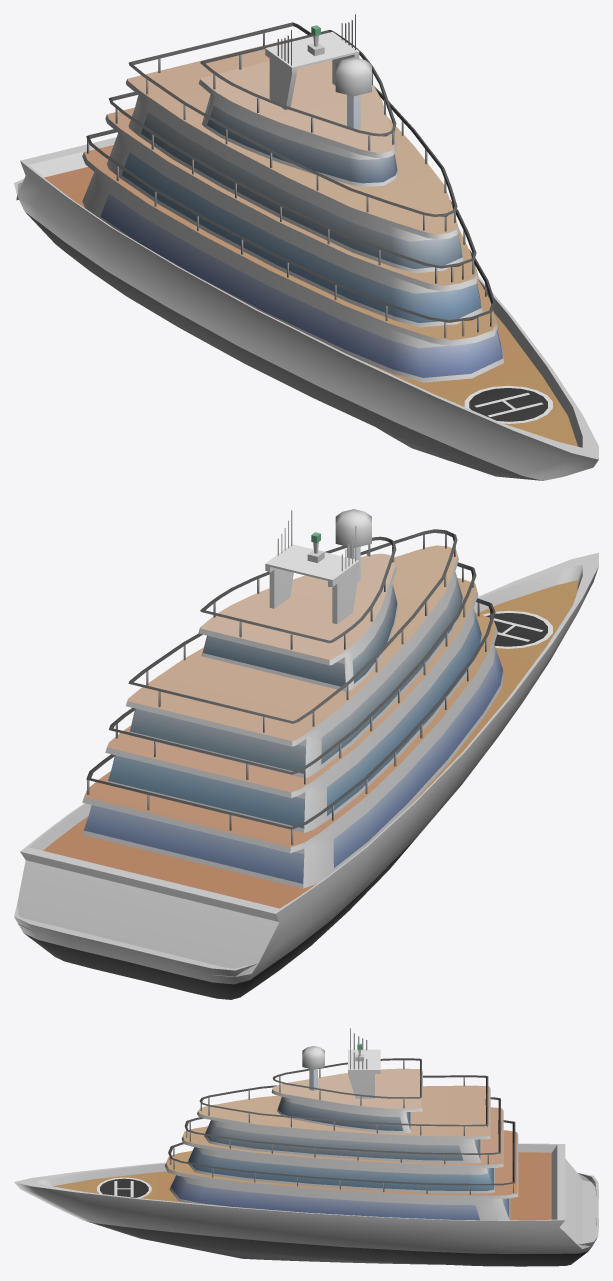
Rendered from Yacht_Big_A.fbx.
The picture shows the model from 3 angles, top to bottom: view 1: azimuth 30°, elevation 25°; view 2: azimuth 150°, elevation 25°; view 3: azimuth 270°, elevation 25°; orthographic projection. The views are drawn at different scales.
Visible parts, largest first — view 1: Yacht_Big_A; view 2: Yacht_Big_A; view 3: Yacht_Big_A.
Boxes of the visible parts, x1=… form: Yacht_Big_A: x1=14, y1=14, x2=598, y2=480; Yacht_Big_A: x1=14, y1=509, x2=598, y2=999; Yacht_Big_A: x1=14, y1=1028, x2=598, y2=1266.
Size of the model in its own units: 1605 by 2132 by 5120.
